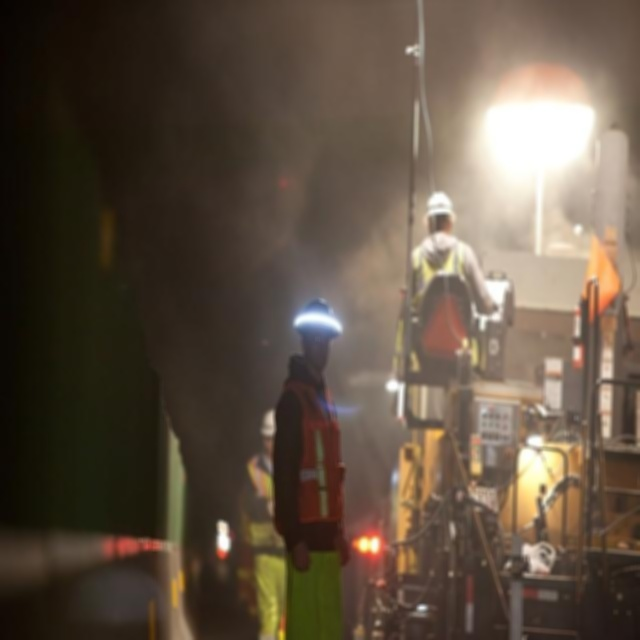Con_Chaleco: (273, 381, 343, 537)
